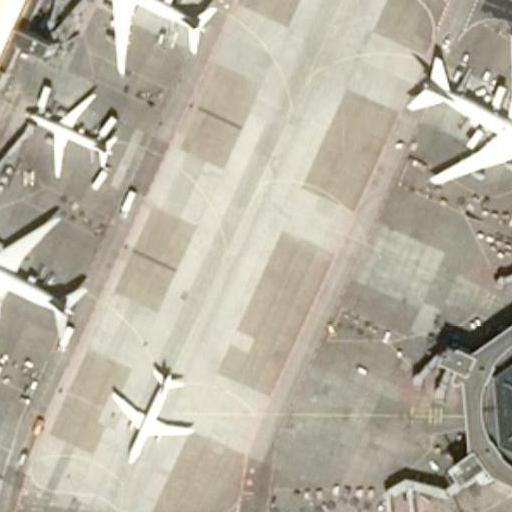Aircraft: (404, 29, 512, 188), (0, 210, 84, 359), (57, 0, 216, 72), (108, 362, 195, 464), (22, 90, 117, 181)
